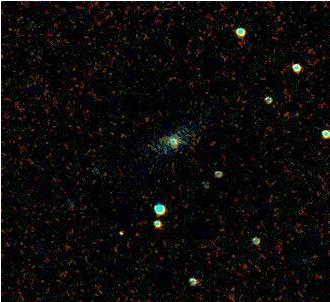star: (107, 216, 137, 246)
